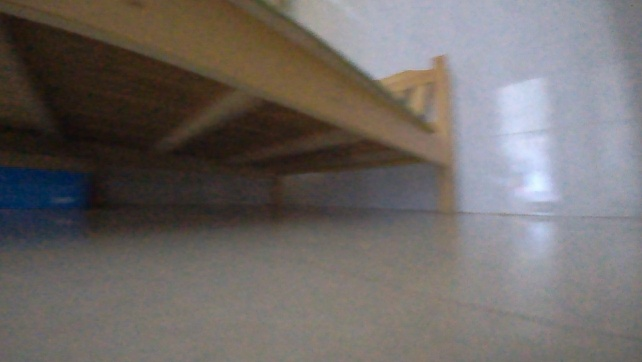bed: (0, 0, 462, 218)
